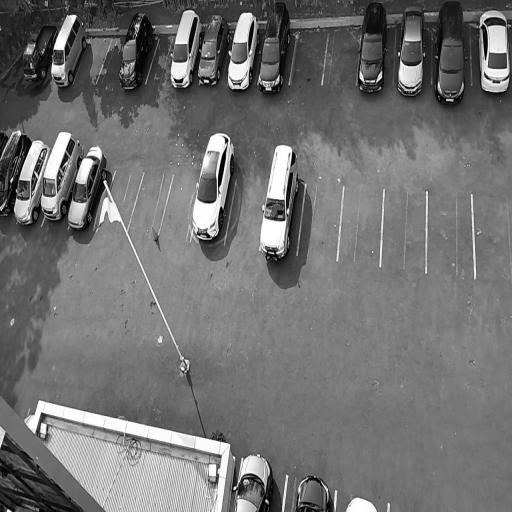Car: (186, 126, 240, 243), (256, 138, 303, 262), (64, 138, 112, 234), (38, 125, 85, 223), (254, 0, 294, 102), (115, 6, 160, 92), (11, 136, 52, 225), (222, 8, 264, 93), (166, 6, 206, 92), (49, 11, 91, 88), (195, 8, 233, 92), (395, 1, 428, 97), (0, 128, 32, 220), (477, 10, 511, 93), (22, 11, 58, 85), (232, 453, 277, 512), (291, 472, 334, 512), (343, 492, 381, 512)
Space Available: (428, 190, 474, 276), (381, 187, 426, 271), (338, 186, 383, 266), (298, 182, 342, 260), (473, 193, 512, 277), (226, 179, 267, 248), (128, 170, 173, 231), (159, 173, 199, 236), (110, 167, 144, 229), (323, 31, 361, 85), (291, 30, 328, 85), (73, 36, 113, 83), (145, 35, 176, 85), (97, 38, 125, 84)
